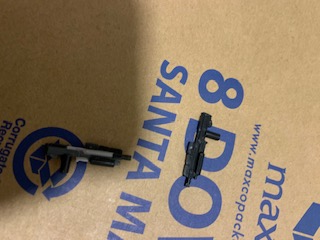rifle: (44, 140, 135, 178), (182, 111, 223, 190)
